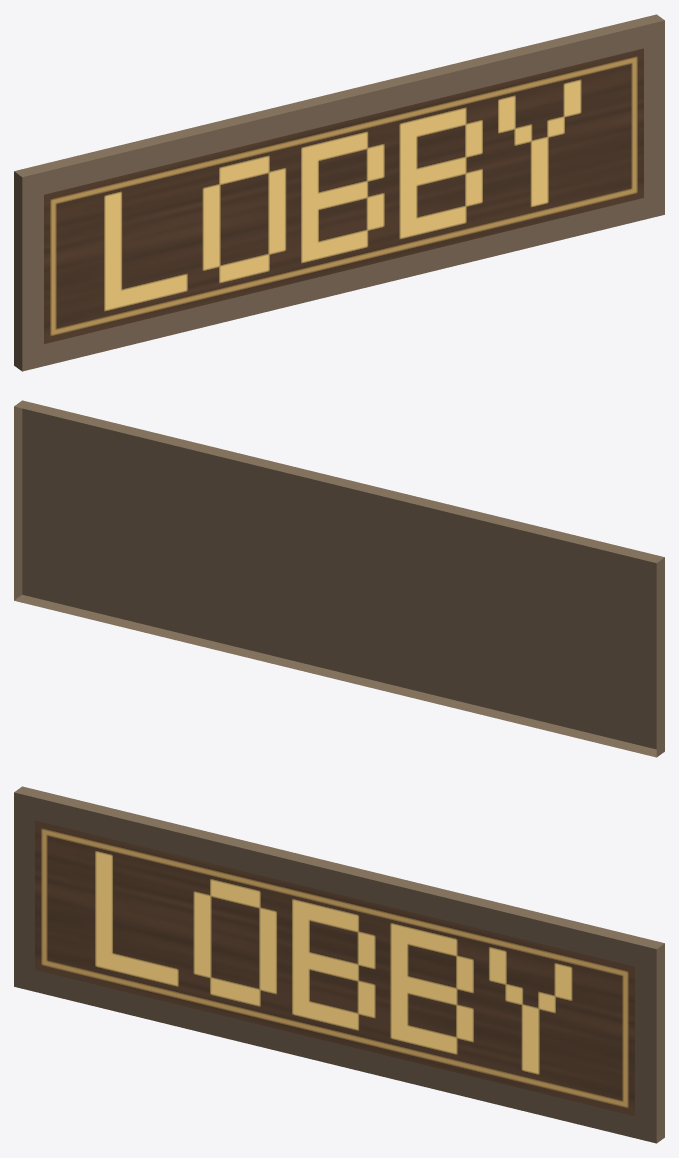
File: lobbyPlaque.glb
3 renders of one model, top to bottom at view 1: azimuth 30°, elevation 25°; view 2: azimuth 150°, elevation 25°; view 3: azimuth 330°, elevation 25°, orthographic.
Visible parts, largest first — view 1: lobbyPlaque; view 2: lobbyPlaque; view 3: lobbyPlaque.
Boxes of the visible parts, x1=… form: lobbyPlaque: x1=14, y1=14, x2=664, y2=371; lobbyPlaque: x1=14, y1=400, x2=664, y2=757; lobbyPlaque: x1=14, y1=786, x2=664, y2=1143.
Size of the model in its own units: 0.9 by 0.26 by 0.021.
2 materials, 1 textured.
